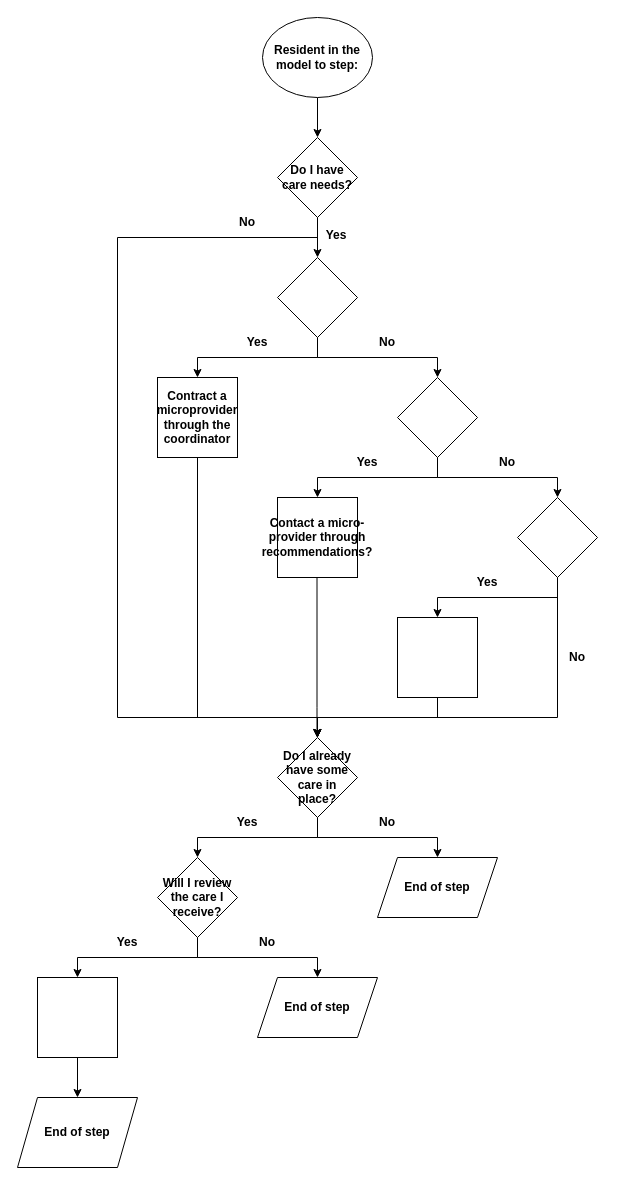
The diagram is 625 pixels wide and 1185 high, and some of its shapes have lost their labels. The shapes that lost their labels are listed below. From the top down, each one's centre as x and y in pixels, then its label:
the point at 317,297: Does the model have a coordinator?
the point at 437,417: Do I have any reccomendations?
the point at 557,537: Do I randomly approach a micro-provider?
the point at 437,657: Randomly approach a micro-provider
the point at 77,1017: Promote microprovider to other residents
